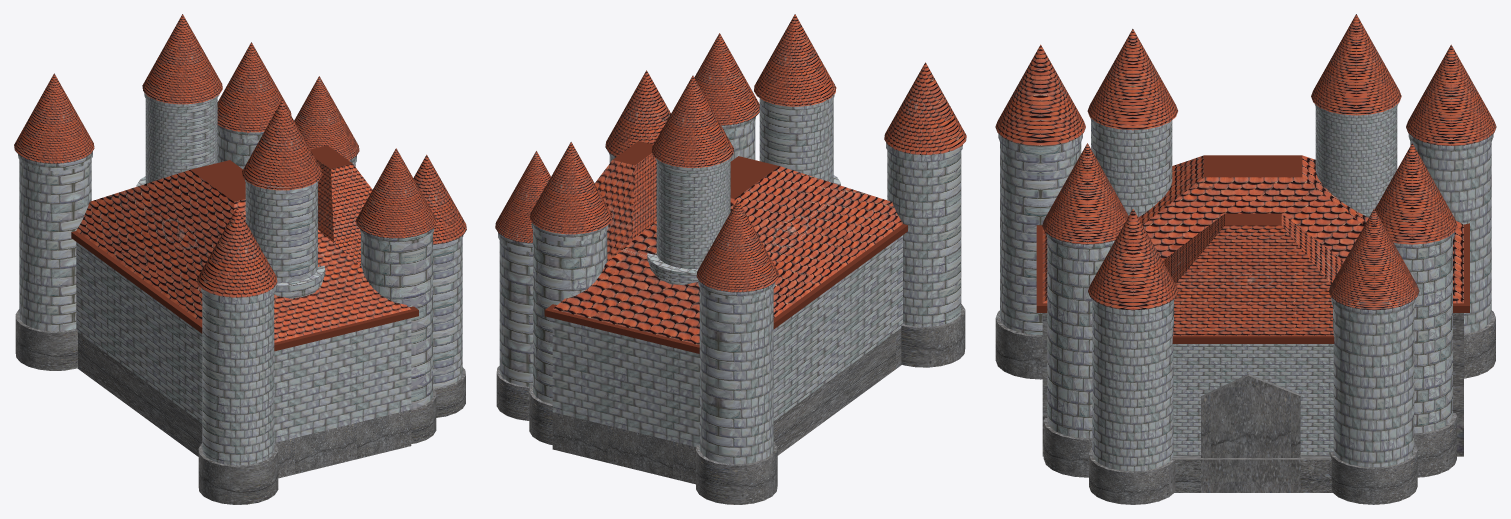
Rendered from castle IRR.fbx.
3 renders of one model, left to right at view 1: azimuth 30°, elevation 25°; view 2: azimuth 150°, elevation 25°; view 3: azimuth 270°, elevation 25°, orthographic. The views are drawn at different scales.
Parts seen in each view (by area): view 1: pCylinder17; view 2: pCylinder17; view 3: pCylinder17.
Boxes of the visible parts, box(x1,y1,x2,y2) form: pCylinder17: box(14, 14, 466, 504); pCylinder17: box(495, 14, 966, 504); pCylinder17: box(995, 14, 1496, 504).
Bounding box in the file's own units: 22.27 × 24.86 × 28.66.
5 materials, 3 textured.
